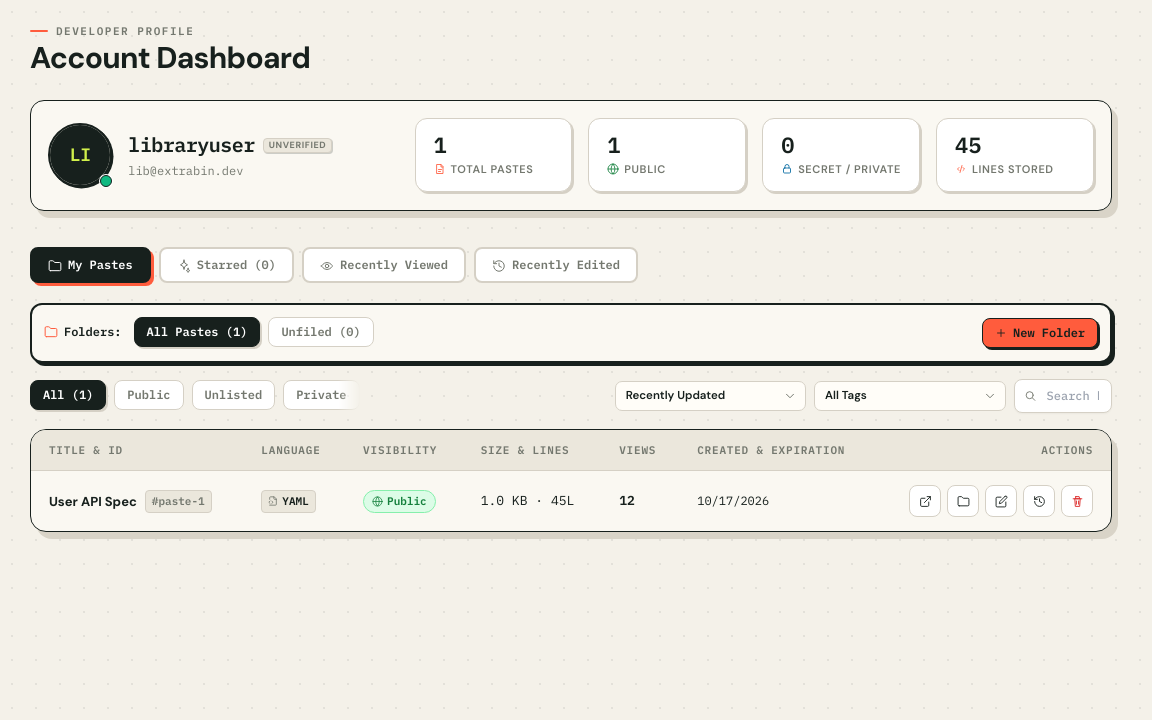
Test: AccountPage library search, sort and tag filtering › Recently Viewed tab loads and displays viewed pastes
Click the button "Recently Viewed".
click(384, 265)  # box 302,247 -> 466,283
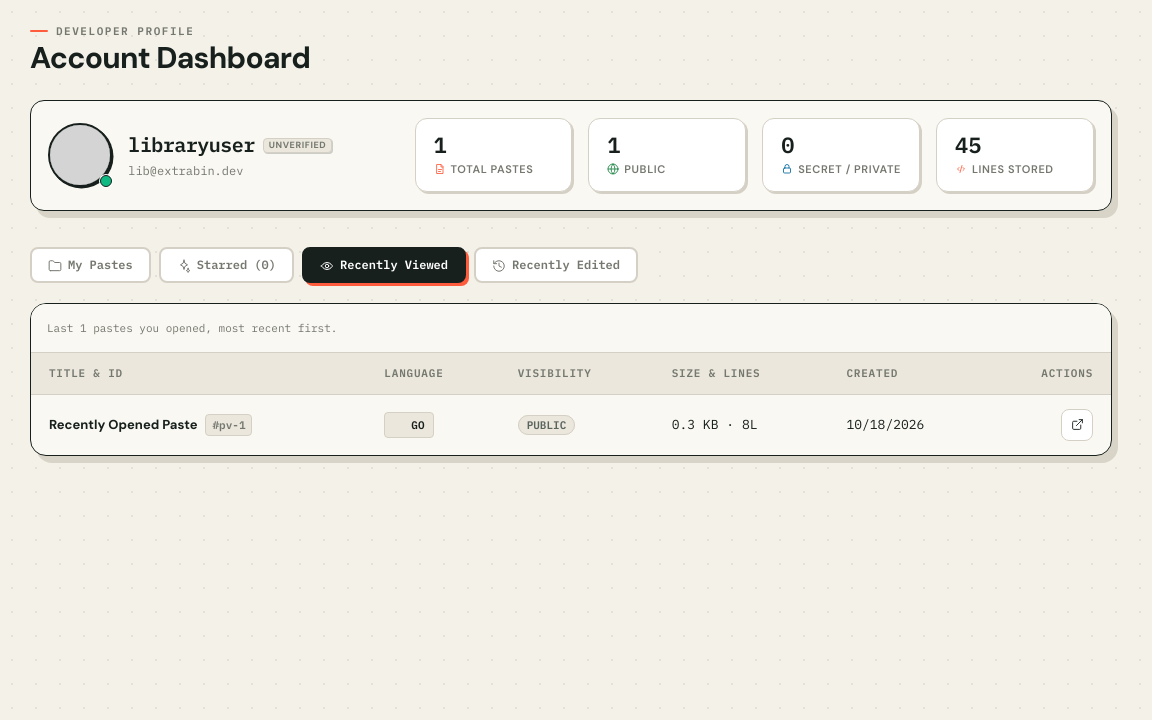
Expected: the text "Recently Opened Paste" is shown, 49,415 -> 198,434
